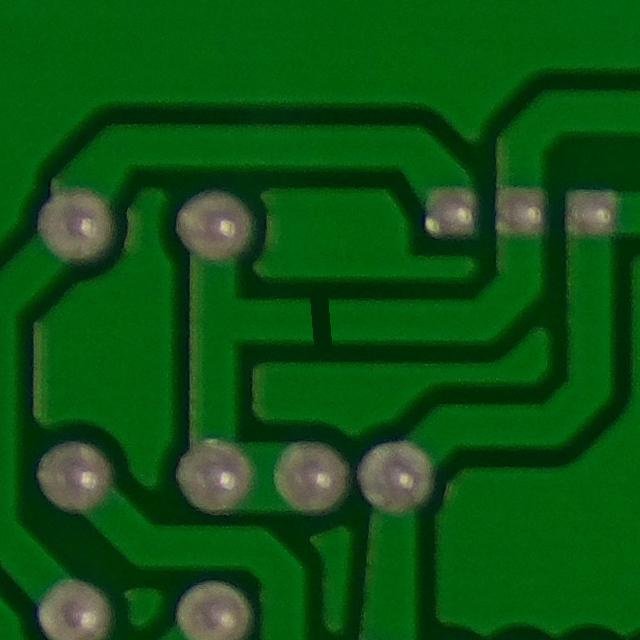open_circuit: (294, 284, 347, 357)
